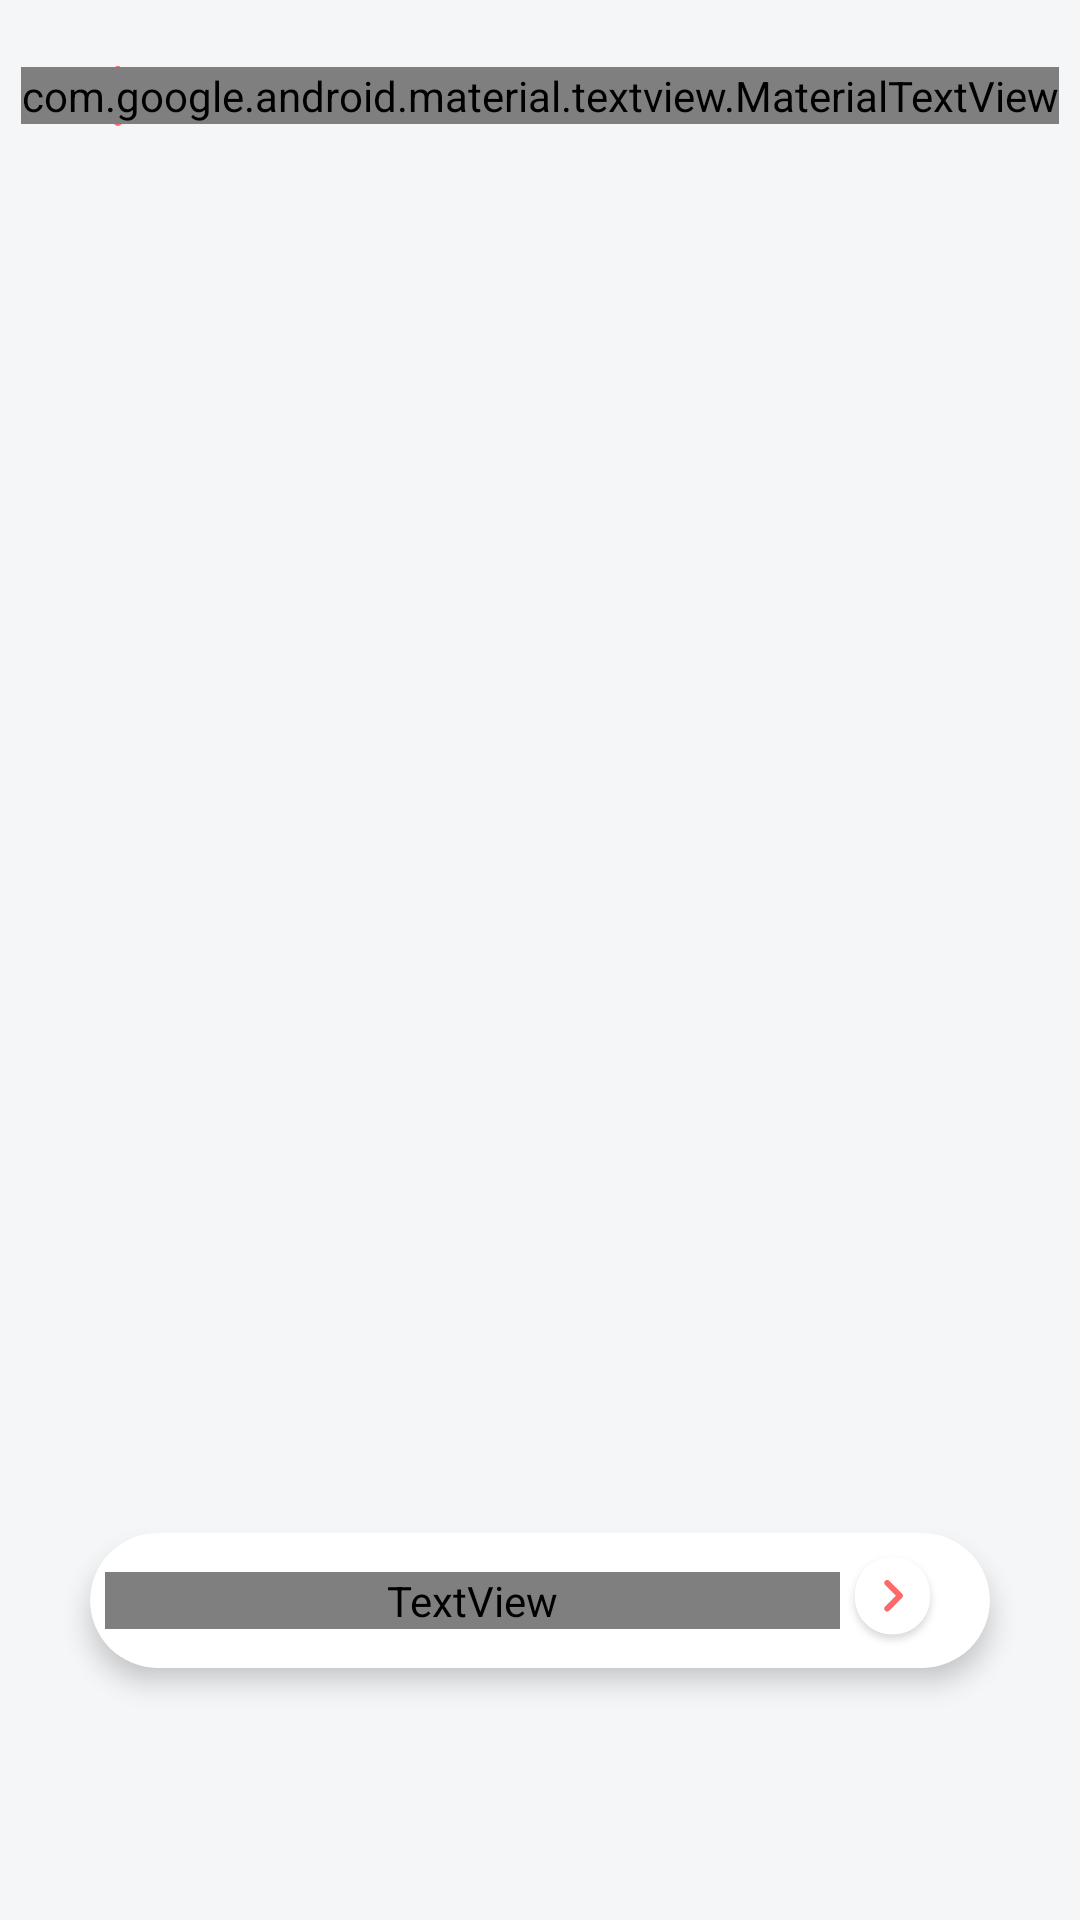

Icons on this 1080×1920 Android screen, each with its box as (x1, y1, x2, y2):
arrow: (858, 1580, 926, 1638)
